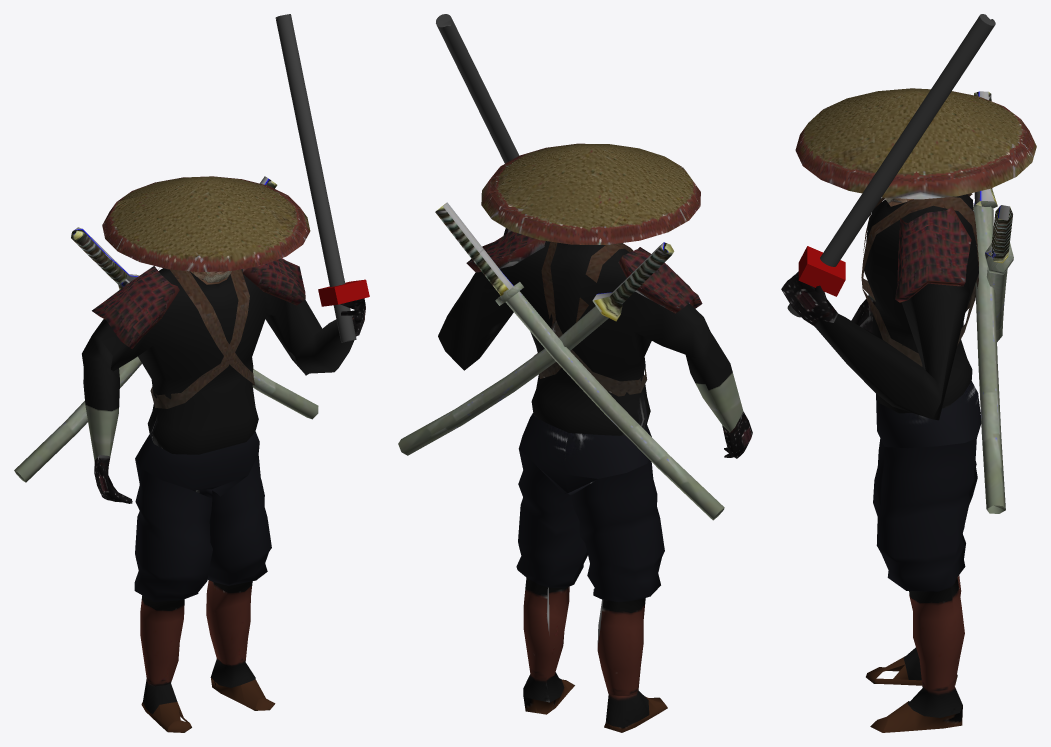
The model's file is SecondStand.obj.
3 views of the same model, side by side, from view 1: azimuth 30°, elevation 25°; view 2: azimuth 150°, elevation 25°; view 3: azimuth 270°, elevation 25° (orthographic). The views are drawn at different scales.
Parts seen in each view (by area): view 1: group pasted__polySurface72 polySurface2 polySurface3 polySurfac, pCylinder1 polySurface1, pCube1 polySurface1; view 2: group pasted__polySurface72 polySurface2 polySurface3 polySurfac, pCylinder1 polySurface1; view 3: group pasted__polySurface72 polySurface2 polySurface3 polySurfac, pCylinder1 polySurface1, pCube1 polySurface1.
Boxes of the visible parts, x1=… form: group pasted__polySurface72 polySurface2 polySurface3 polySurfac: x1=14, y1=176, x2=365, y2=732; pCylinder1 polySurface1: x1=275, y1=14, x2=356, y2=342; pCube1 polySurface1: x1=318, y1=279, x2=369, y2=306; group pasted__polySurface72 polySurface2 polySurface3 polySurfac: x1=398, y1=143, x2=752, y2=732; pCylinder1 polySurface1: x1=436, y1=14, x2=519, y2=163; group pasted__polySurface72 polySurface2 polySurface3 polySurfac: x1=781, y1=88, x2=1036, y2=732; pCylinder1 polySurface1: x1=787, y1=14, x2=995, y2=317; pCube1 polySurface1: x1=798, y1=246, x2=845, y2=296.
Bounding box in the file's own units: 0.8013 × 1.63 × 0.5067.
3 materials, 1 textured.
